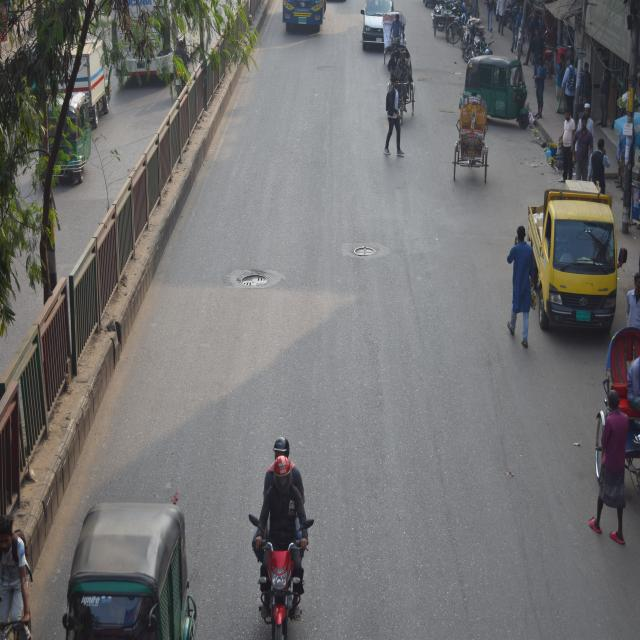bus: (276, 0, 330, 34)
car: (355, 0, 398, 57)
motorbike: (230, 490, 308, 640)
pickup-van: (522, 170, 619, 334), (56, 33, 114, 121)
